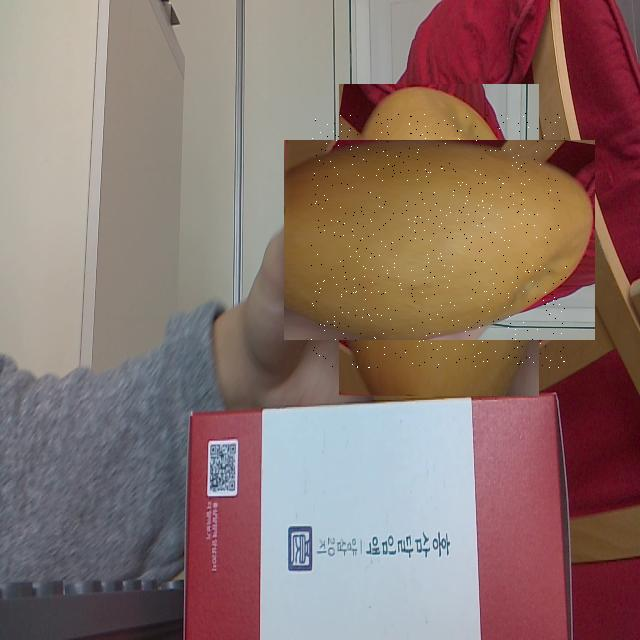pear: (311, 112, 567, 368)
